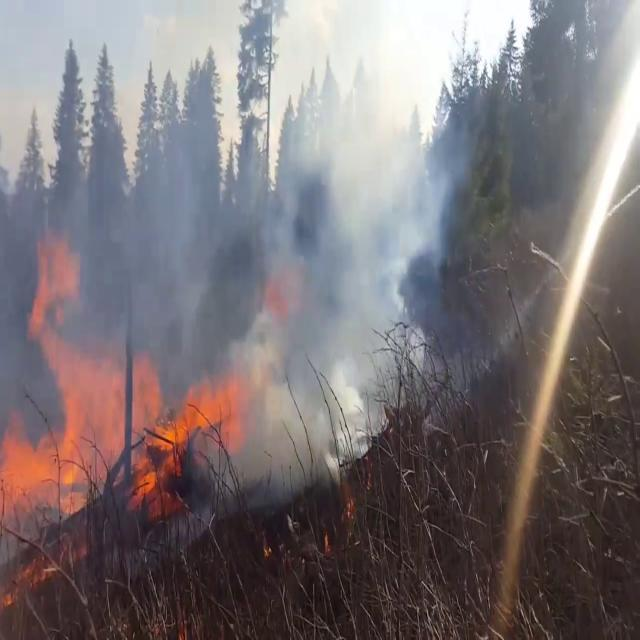Fire: (0, 264, 244, 503)
Smoke: (6, 4, 476, 402)
